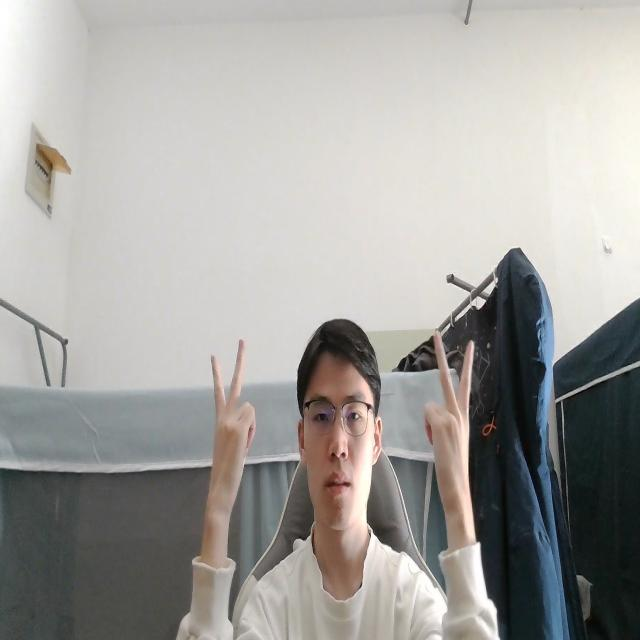yes: (200, 329, 258, 554), (420, 328, 475, 534)
